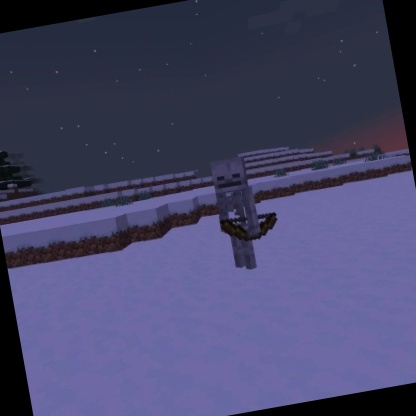skeleton: (204, 147, 289, 278)
